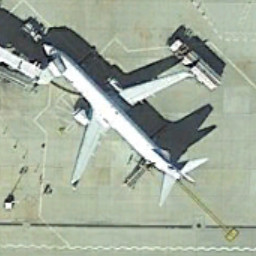Airplane: (29, 31, 211, 215)
